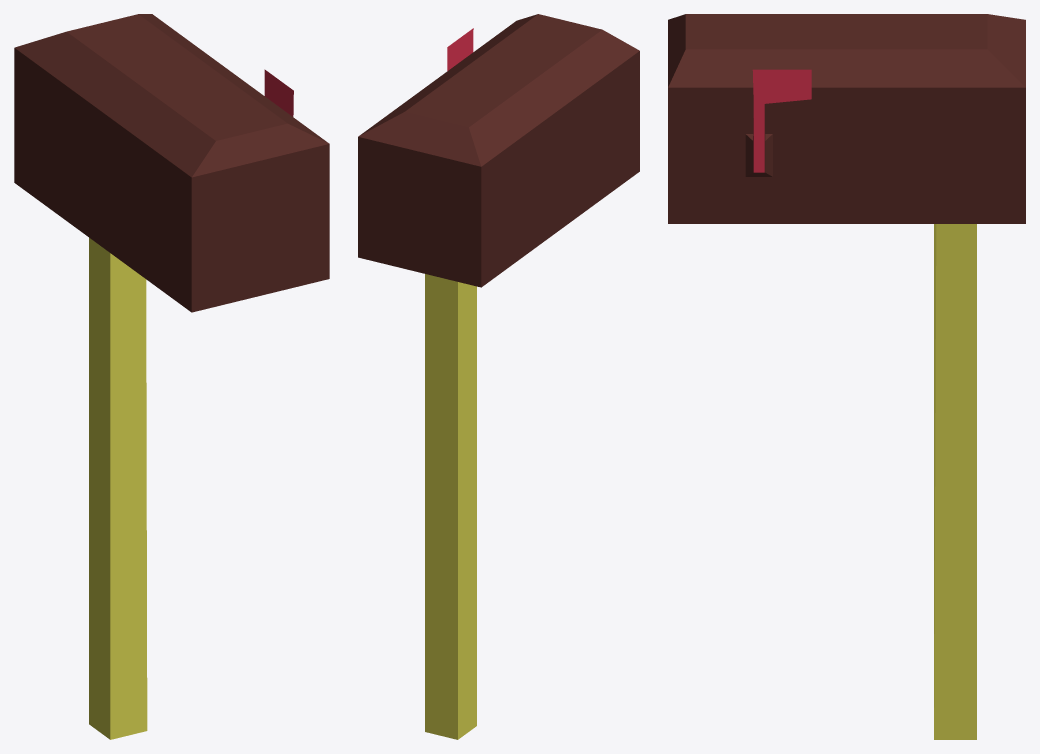
3 renders of one model, left to right at view 1: azimuth 30°, elevation 25°; view 2: azimuth 150°, elevation 25°; view 3: azimuth 270°, elevation 25°, orthographic. The views are drawn at different scales.
Parts seen in each view (by area): view 1: Cube; view 2: Cube; view 3: Cube.
Part boxes in pixels (x1=…): Cube: x1=14, y1=14, x2=329, y2=739; Cube: x1=358, y1=14, x2=639, y2=739; Cube: x1=668, y1=14, x2=1025, y2=739.
Bounding box in the file's own units: 0.217 × 0.997 × 0.4625.
